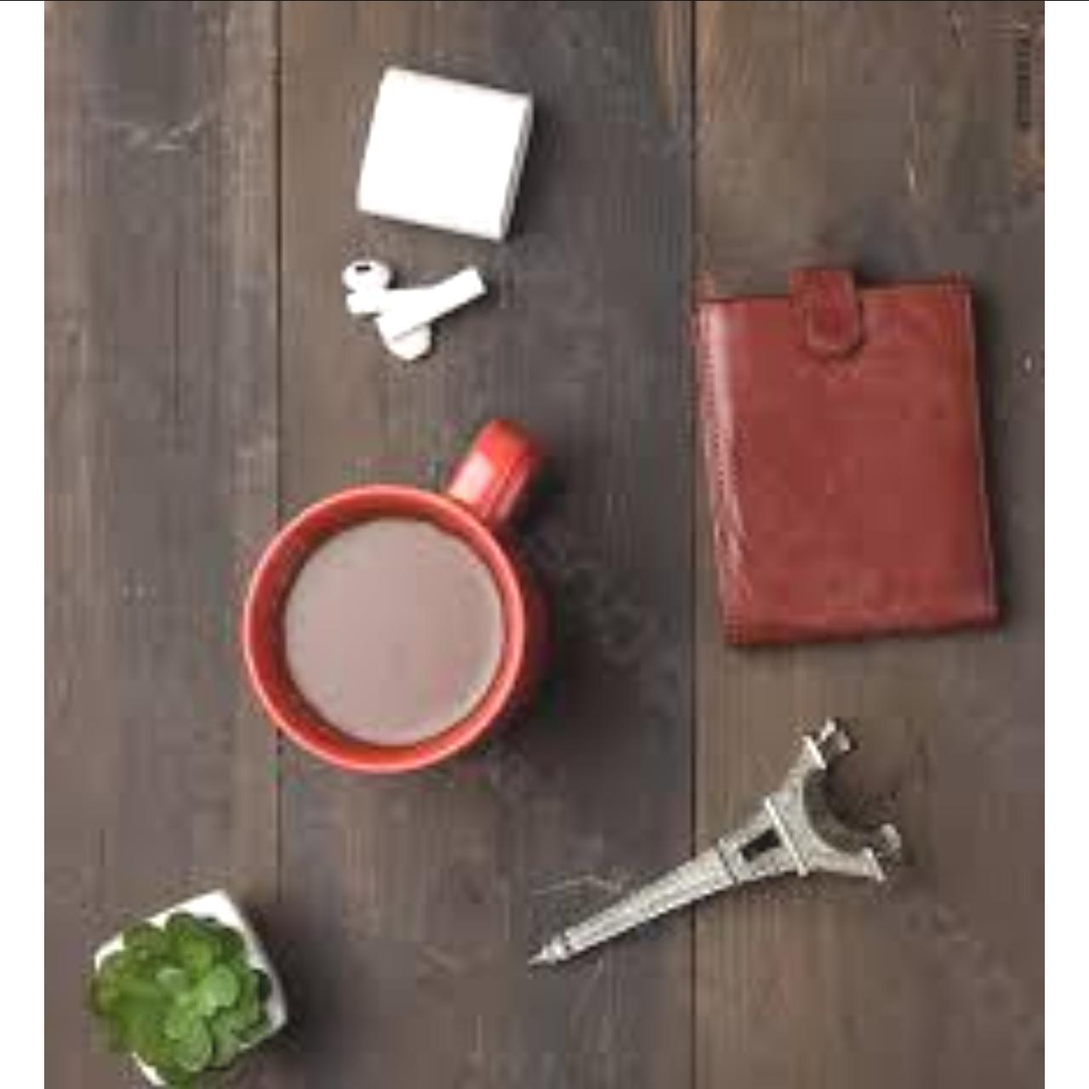wallet: (636, 133, 1017, 710)
